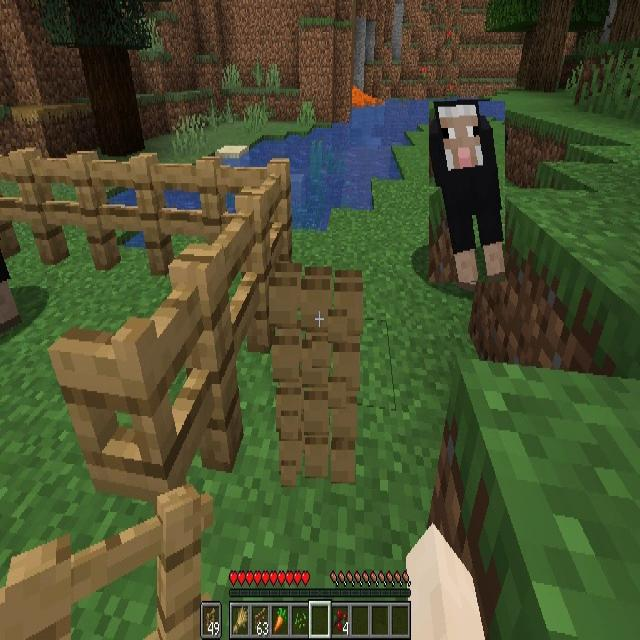sheep: (430, 101, 506, 282)
